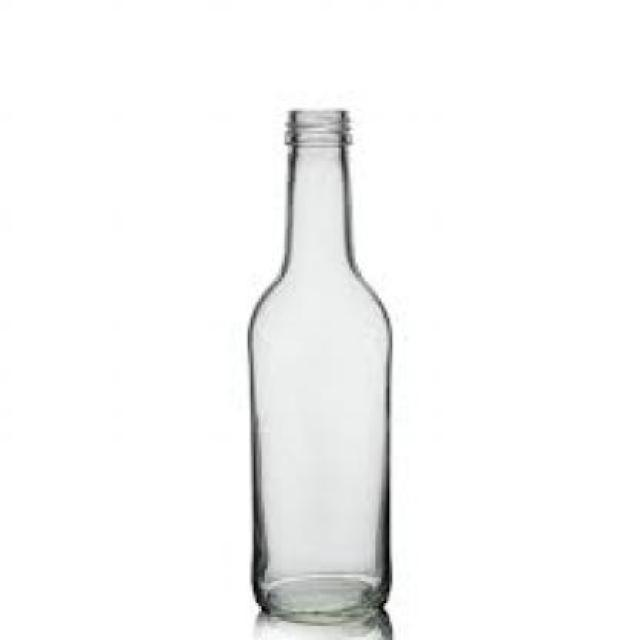kaca: (245, 108, 386, 620)
